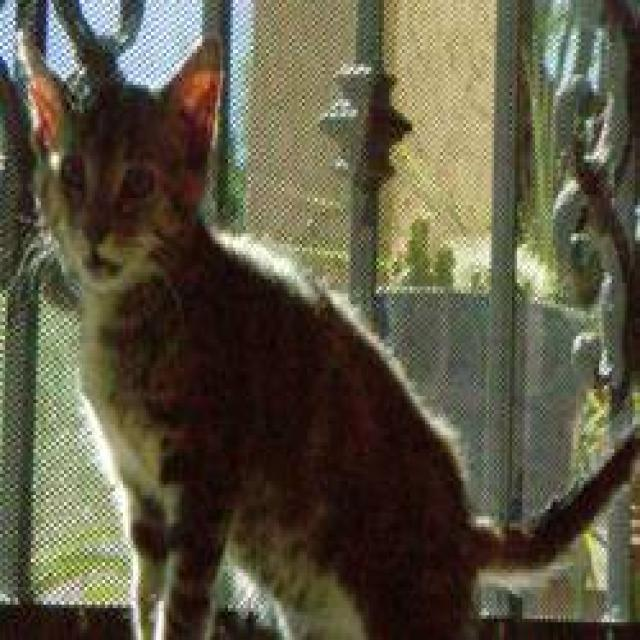cat: (12, 0, 637, 636)
